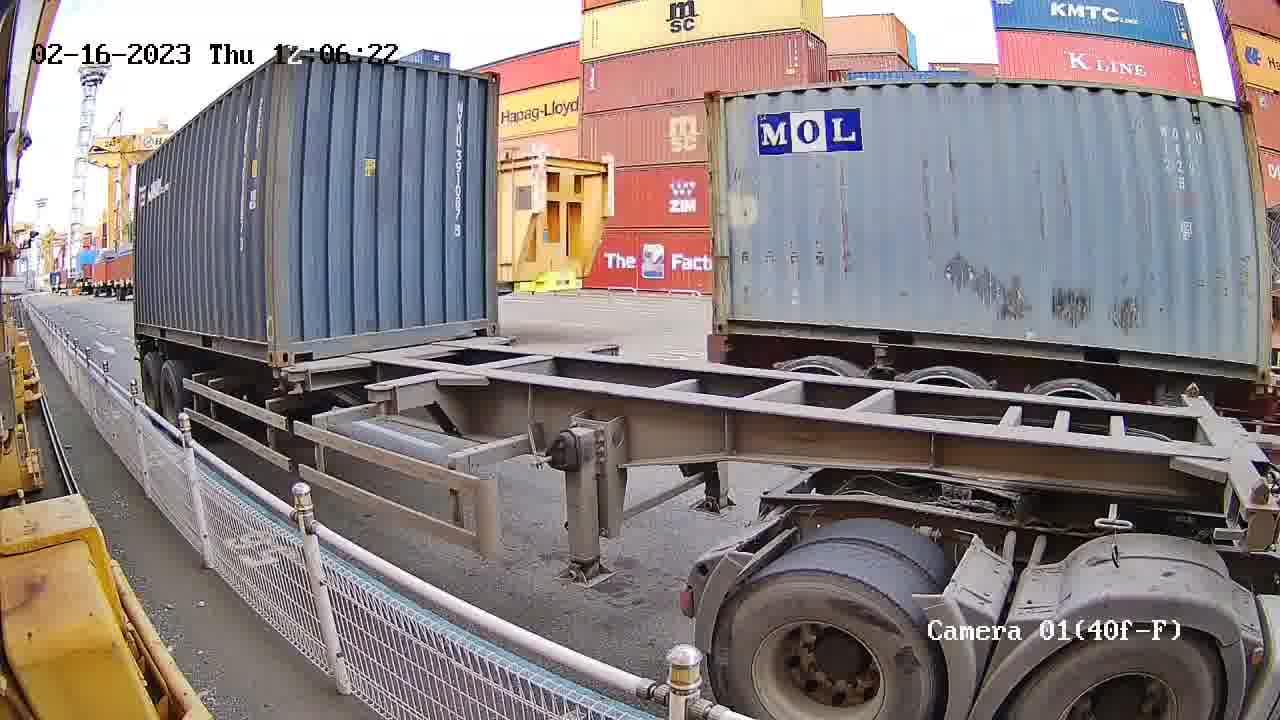Chassis: (286, 336, 514, 382)
Cone: (285, 369, 306, 395), (269, 368, 286, 391)
Hole_L: (277, 323, 318, 366)
Hole_R: (244, 325, 275, 367), (464, 305, 501, 338)
Tire: (160, 364, 179, 422), (143, 356, 158, 410)
